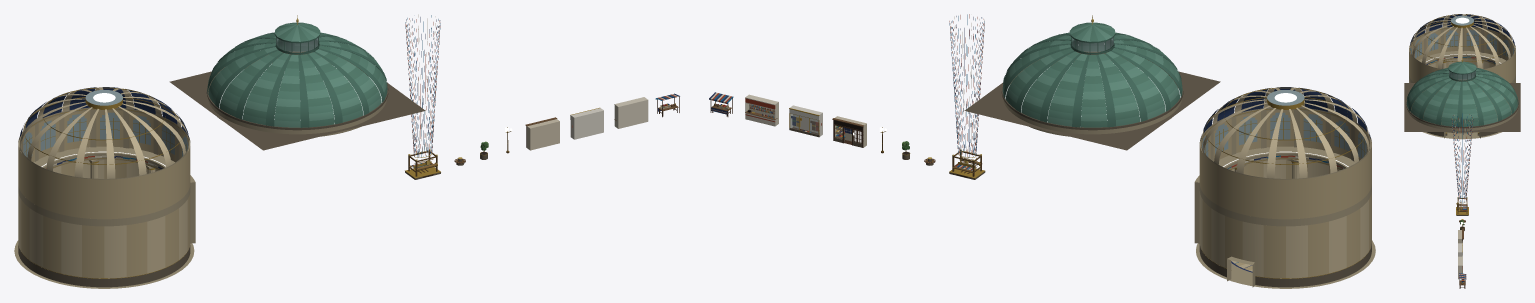
Rendered from tsumugi.glb.
3 renders of one model, left to right at view 1: azimuth 30°, elevation 25°; view 2: azimuth 150°, elevation 25°; view 3: azimuth 270°, elevation 25°, orthographic. The views are drawn at different scales.
Parts seen in each view (by area): view 1: tsumugi_rotunda_body, tsumugi_dome_body, tsumugi_loom_body, tsumugi_shop_timber_body, tsumugi_shop_enamel_body, tsumugi_shop_glass_body; view 2: tsumugi_rotunda_body, tsumugi_dome_body, tsumugi_loom_body, tsumugi_shop_enamel_body, tsumugi_shop_glass_body, tsumugi_shop_timber_body; view 3: tsumugi_dome_body, tsumugi_rotunda_body, tsumugi_loom_body, tsumugi_stall_body, tsumugi_shop_enamel_body.
Boxes of the visible parts, left/top/right/bottom form: tsumugi_rotunda_body: left=14, top=87, right=195, bottom=288; tsumugi_dome_body: left=169, top=15, right=425, bottom=150; tsumugi_loom_body: left=405, top=14, right=440, bottom=179; tsumugi_shop_timber_body: left=525, top=117, right=559, bottom=150; tsumugi_shop_enamel_body: left=614, top=97, right=648, bottom=128; tsumugi_shop_glass_body: left=570, top=107, right=603, bottom=139; tsumugi_rotunda_body: left=1194, top=87, right=1375, bottom=288; tsumugi_dome_body: left=964, top=15, right=1220, bottom=150; tsumugi_loom_body: left=949, top=14, right=985, bottom=179; tsumugi_shop_enamel_body: left=745, top=94, right=778, bottom=126; tsumugi_shop_glass_body: left=789, top=105, right=822, bottom=137; tsumugi_shop_timber_body: left=832, top=116, right=866, bottom=147; tsumugi_dome_body: left=1404, top=57, right=1520, bottom=133; tsumugi_rotunda_body: left=1409, top=14, right=1515, bottom=139; tsumugi_loom_body: left=1451, top=113, right=1473, bottom=215; tsumugi_stall_body: left=1459, top=273, right=1466, bottom=288; tsumugi_shop_enamel_body: left=1458, top=256, right=1462, bottom=279.
Bounding box in the file's own units: 96.1 × 26.6 × 24.
